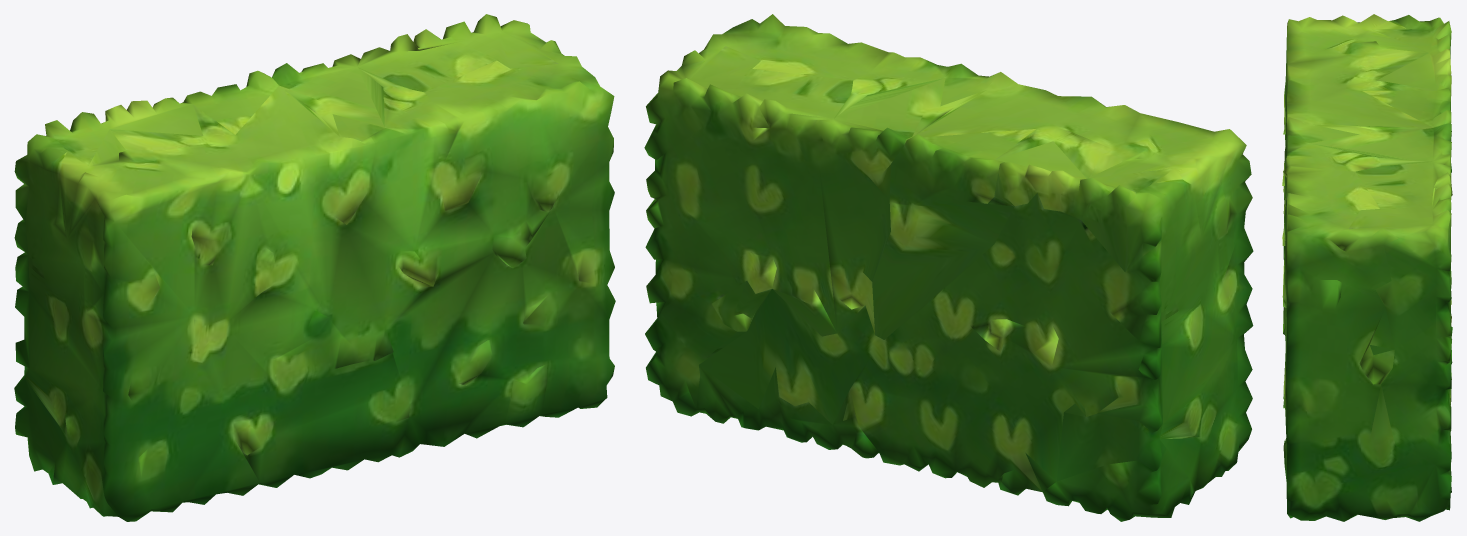
The model's file is hedge.glb.
3 renders of one model, left to right at view 1: azimuth 30°, elevation 25°; view 2: azimuth 150°, elevation 25°; view 3: azimuth 270°, elevation 25°, orthographic. The views are drawn at different scales.
Parts seen in each view (by area): view 1: model; view 2: model; view 3: model.
Part boxes in pixels (x1,y1,x2,y2): model: [14, 14, 615, 521]; model: [644, 14, 1253, 521]; model: [1282, 14, 1452, 521].
Size of the model in its own units: 1.9 by 1.19 by 0.614.
1 material, 1 textured.
